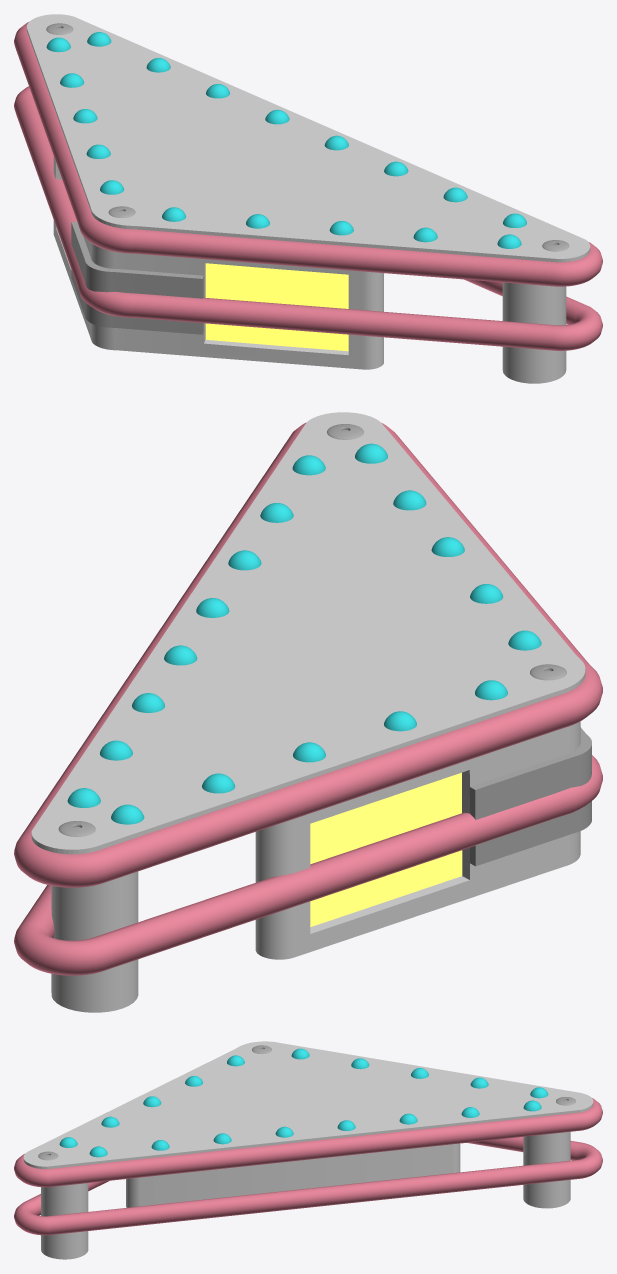
The model's file is Triangle bomper left.fbx.
3 renders of one model, top to bottom at view 1: azimuth 30°, elevation 25°; view 2: azimuth 150°, elevation 25°; view 3: azimuth 270°, elevation 25°, orthographic. The views are drawn at different scales.
Parts seen in each view (by area): view 1: Circle.008; view 2: Circle.008; view 3: Circle.008.
Boxes of the visible parts, <box> form: Circle.008: <box>14,14,602,383</box>; Circle.008: <box>14,412,602,1012</box>; Circle.008: <box>14,1041,602,1259</box>.
Bounding box in the file's own units: 279 × 101 × 522.
